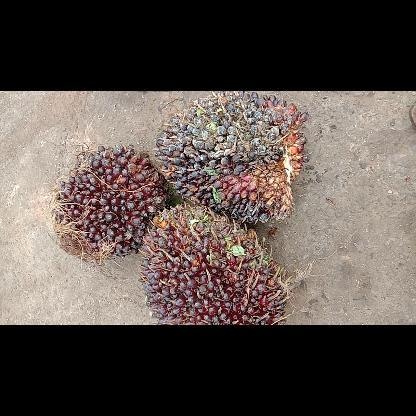Kurang masak: (140, 208, 288, 324), (50, 144, 166, 258)
TBS mentah: (157, 90, 309, 220)
